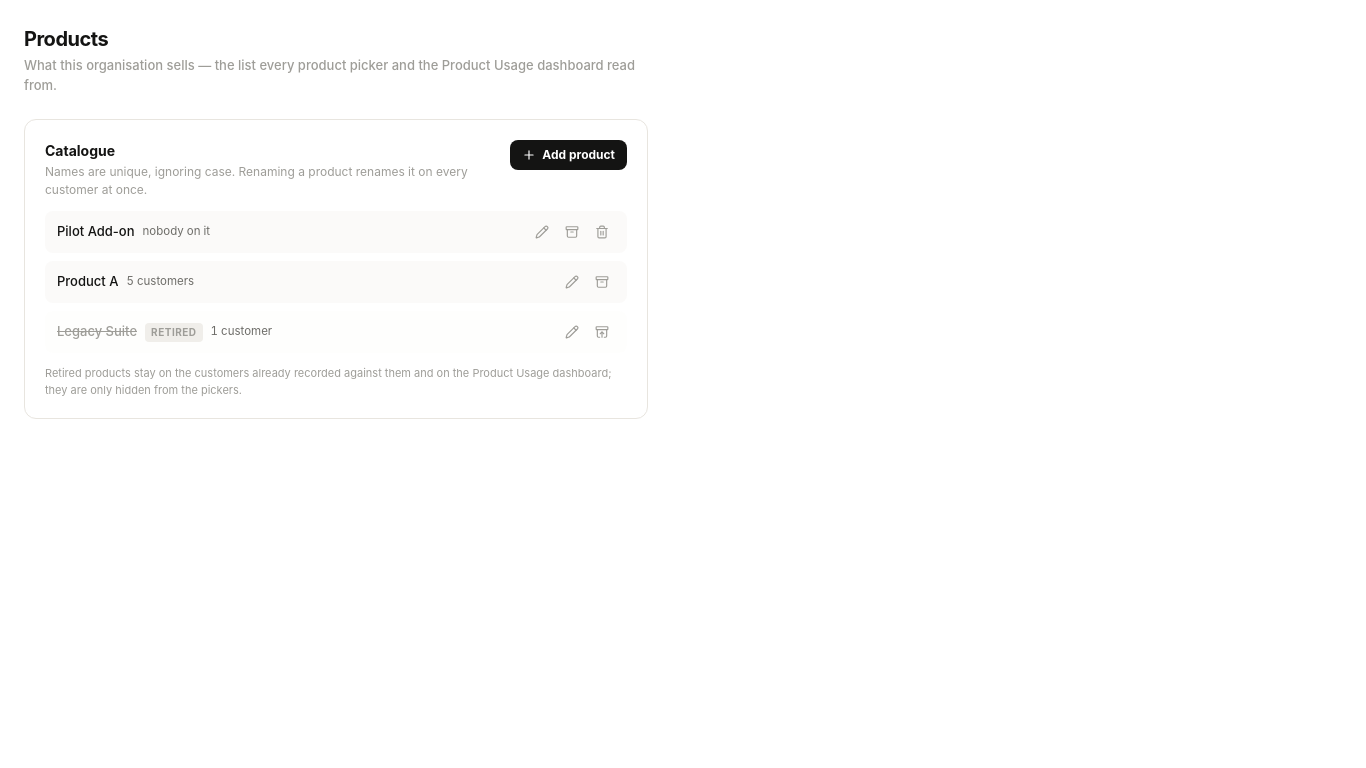
Test: ProductsPage › shows the backend refusal if a delete is rejected anyway
Check: the text "Pilot Add-on" is shown, box [57,222,134,242]
Click the button named "Delete Pilot Add-on" at (602, 232), box [589,219,615,245]
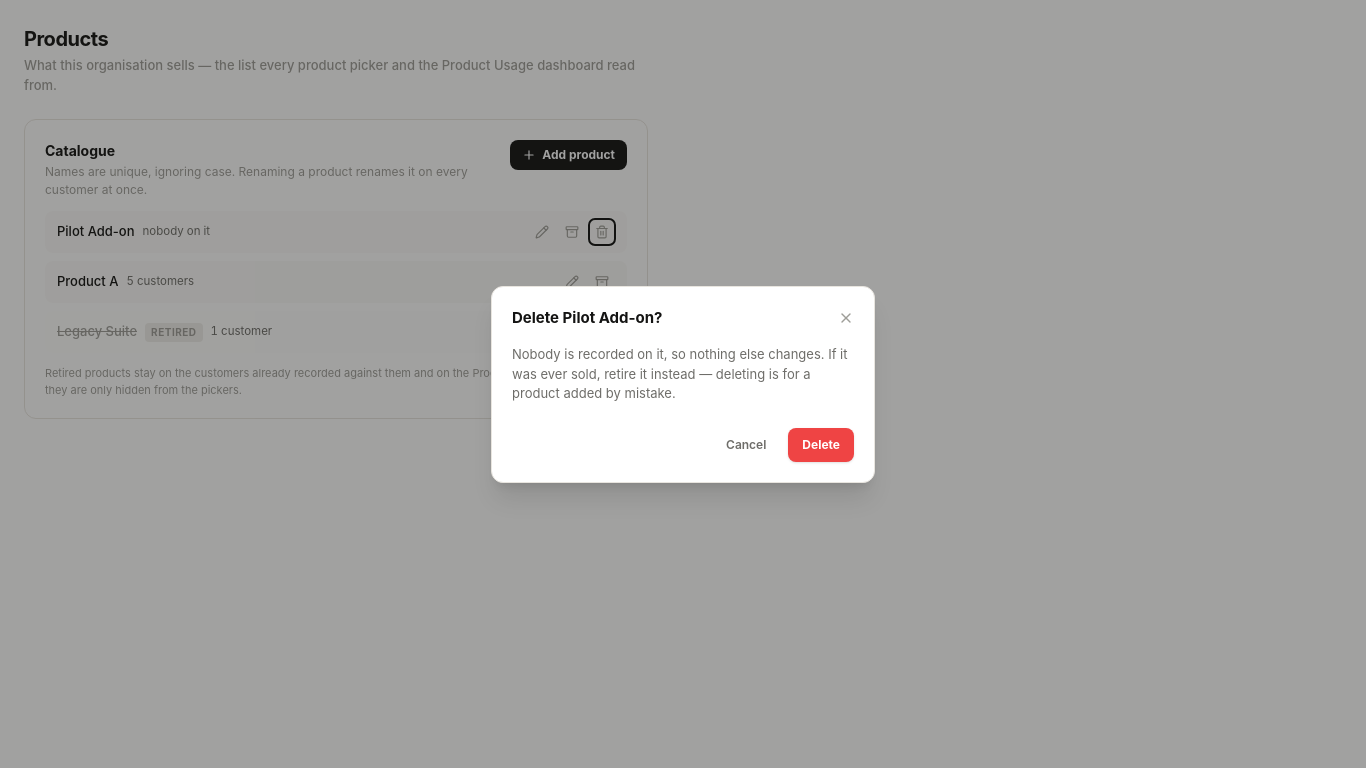
Click the button "Delete" at (821, 444), box [788,428,854,462]
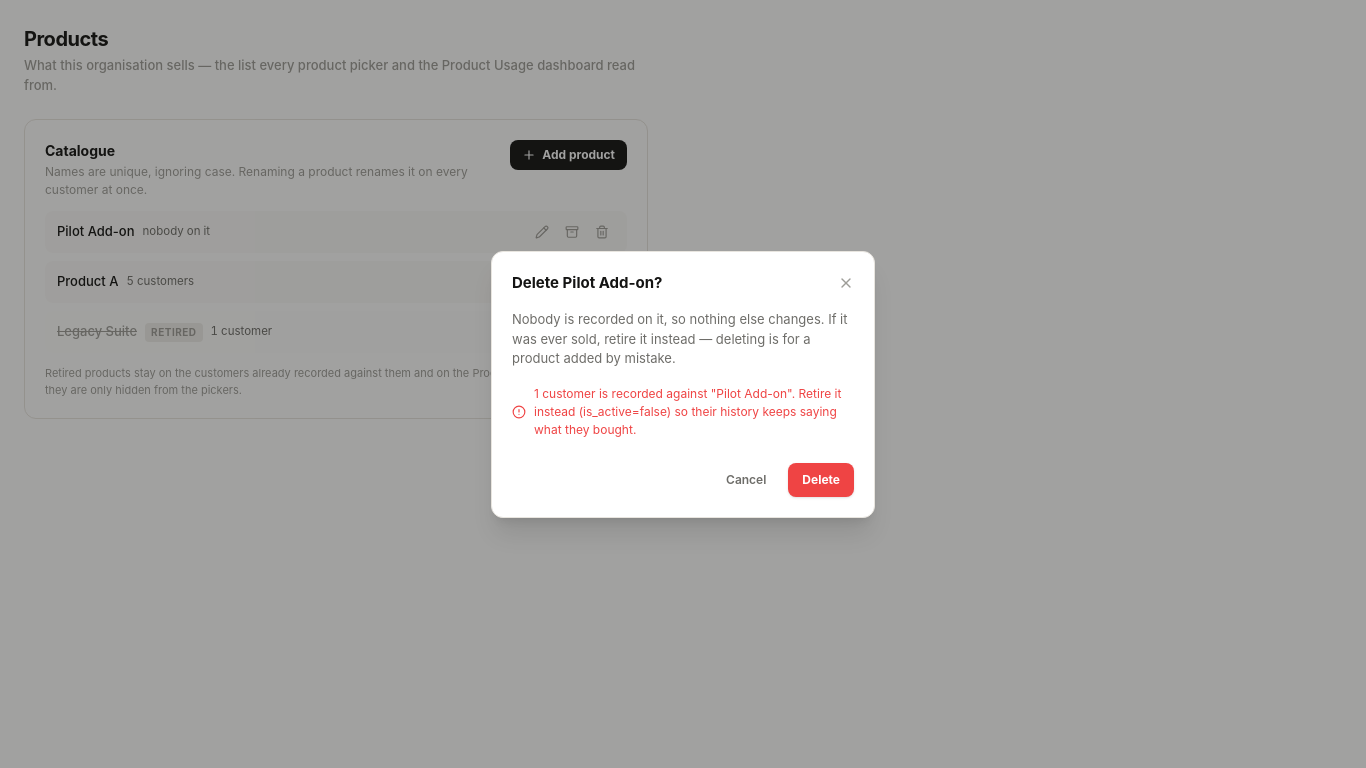
Check: the text "Pilot Add-on" is shown, box [57,222,134,242]
Check: the text "Retire it instead" is shown, box [534,386,842,436]
